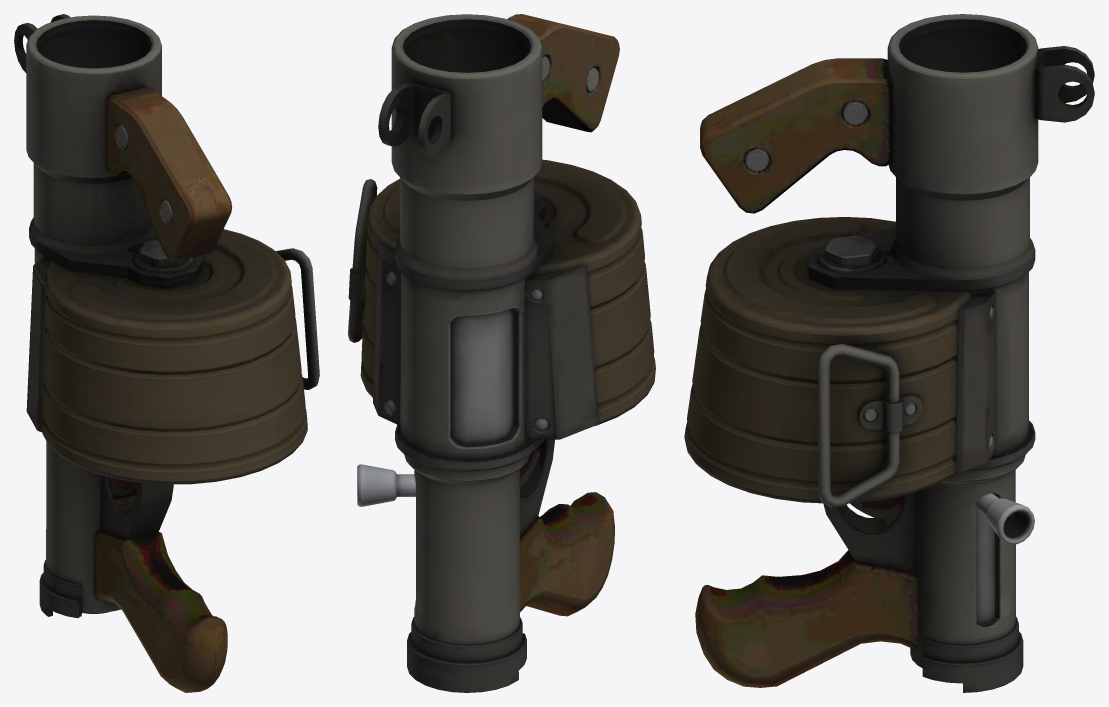
3 views of the same model, side by side, from view 1: azimuth 30°, elevation 25°; view 2: azimuth 150°, elevation 25°; view 3: azimuth 270°, elevation 25° (orthographic). The views are drawn at different scales.
Parts seen in each view (by area): view 1: body0_model0_lod0_mesh0; view 2: body0_model0_lod0_mesh0; view 3: body0_model0_lod0_mesh0.
Part boxes in pixels (box(x1,y1,x2,y2)): body0_model0_lod0_mesh0: box(14, 14, 319, 692); body0_model0_lod0_mesh0: box(348, 14, 655, 692); body0_model0_lod0_mesh0: box(684, 14, 1094, 692).
Bounding box in the file's own units: 13.96 × 30.12 × 17.48.
1 material, 1 textured.
